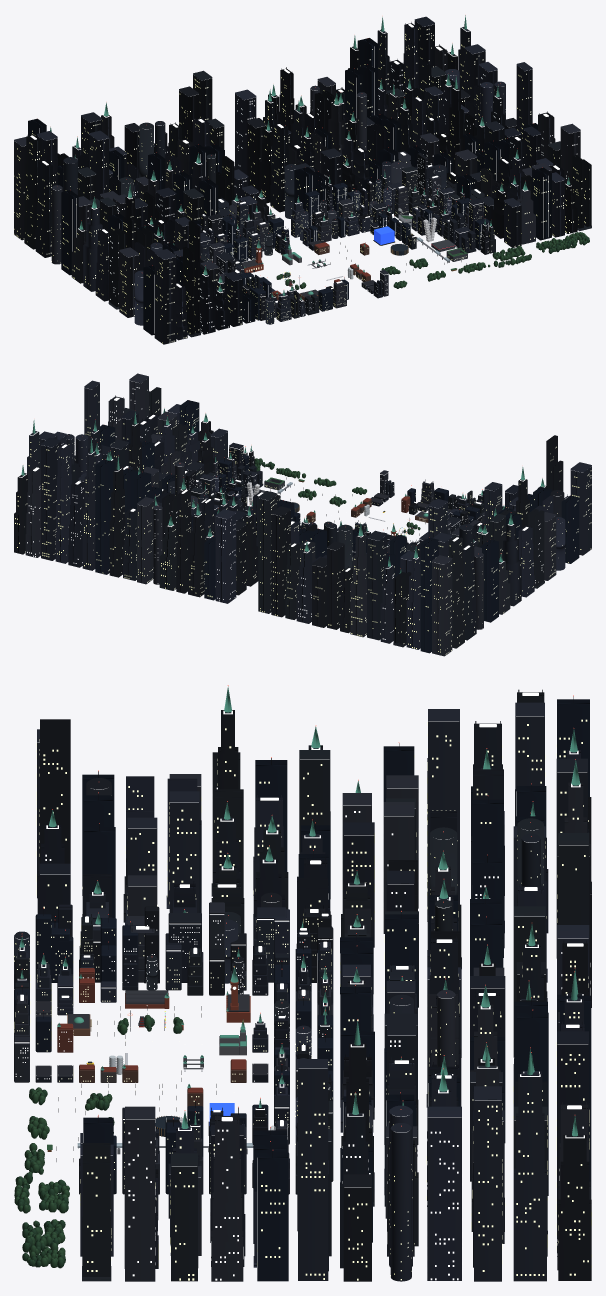
The model's file is by_kbh.glb.
3 views of the same model, one above another, from view 1: azimuth 30°, elevation 25°; view 2: azimuth 150°, elevation 25°; view 3: azimuth 270°, elevation 25° (orthographic). The views are drawn at different scales.
Parts seen in each view (by area): view 1: Skyline_net, Bykerne_net, Parker_net, Ørestad_net; view 2: Skyline_net, Bykerne_net, Parker_net, Ørestad_net; view 3: Skyline_net, Bykerne_net, Parker_net, Rådhuset_net, Hovedbanegården_net.
Boxes of the visible parts, bbox=[...] form: Skyline_net: bbox=[14, 15, 591, 344]; Bykerne_net: bbox=[197, 153, 495, 324]; Parker_net: bbox=[381, 232, 589, 288]; Ørestad_net: bbox=[373, 217, 467, 261]; Skyline_net: bbox=[14, 373, 591, 656]; Bykerne_net: bbox=[185, 442, 484, 545]; Parker_net: bbox=[254, 458, 366, 506]; Ørestad_net: bbox=[247, 477, 299, 512]; Skyline_net: bbox=[36, 685, 591, 1281]; Bykerne_net: bbox=[14, 902, 333, 1194]; Parker_net: bbox=[14, 1087, 114, 1268]; Rådhuset_net: bbox=[226, 966, 250, 1022]; Hovedbanegården_net: bbox=[125, 990, 169, 1008].
Size of the model in its own units: 181 by 52.31 by 112.
